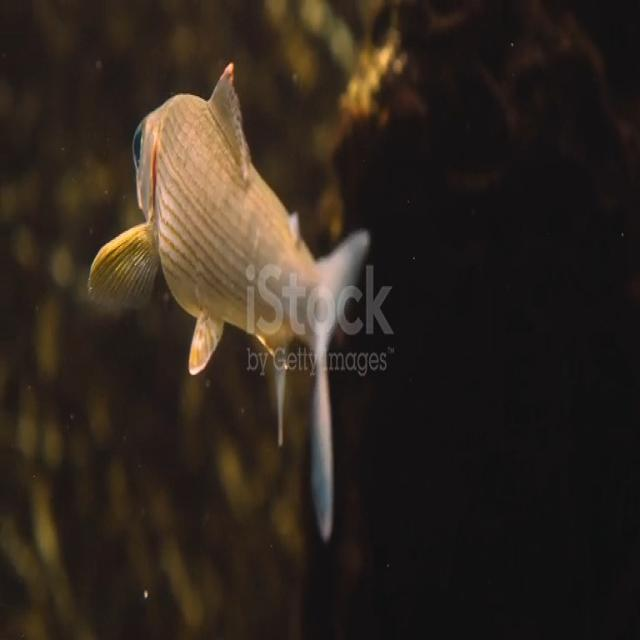fish: (88, 55, 374, 552)
